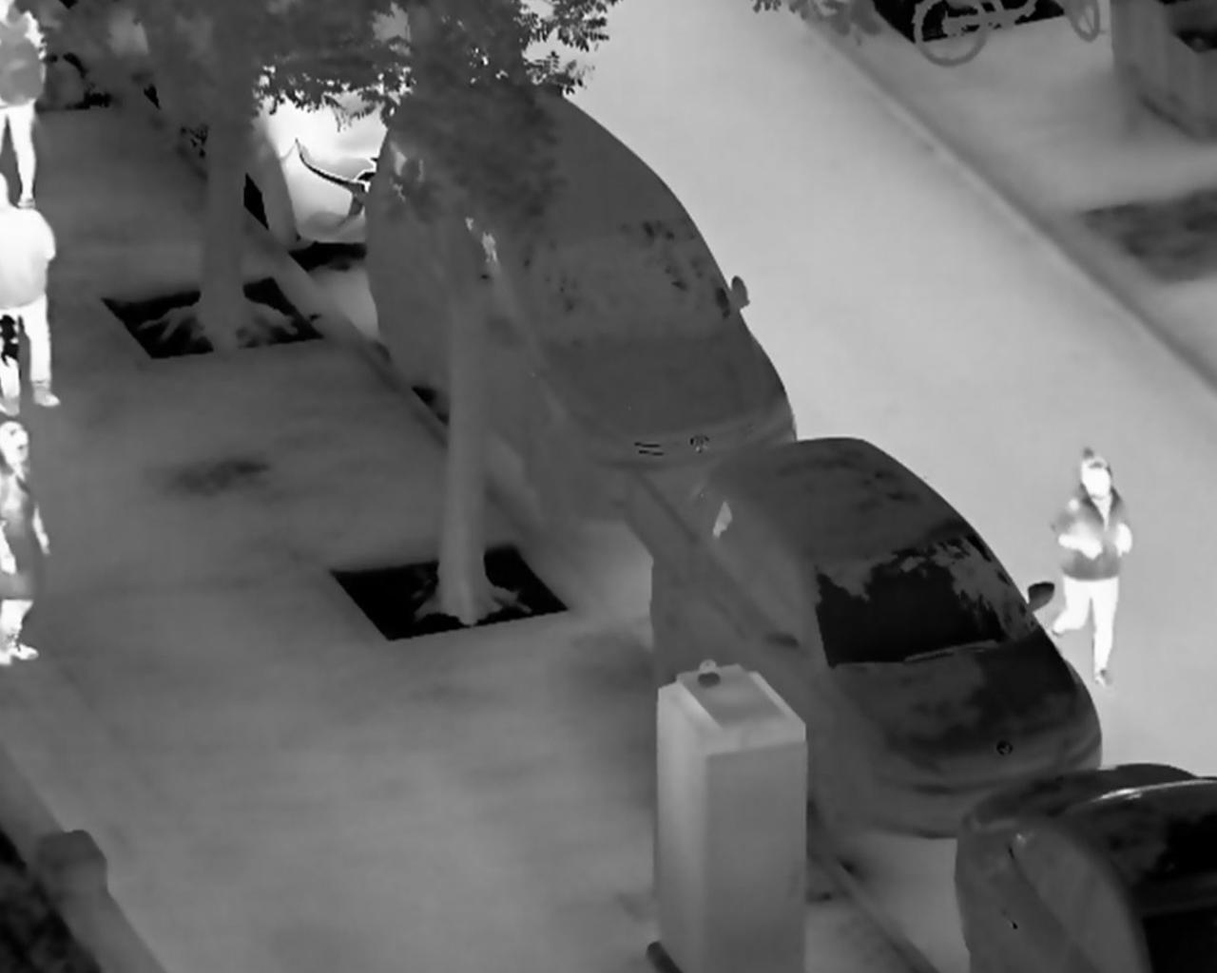person: (1048, 447, 1137, 691), (2, 172, 64, 418), (2, 418, 47, 675)
